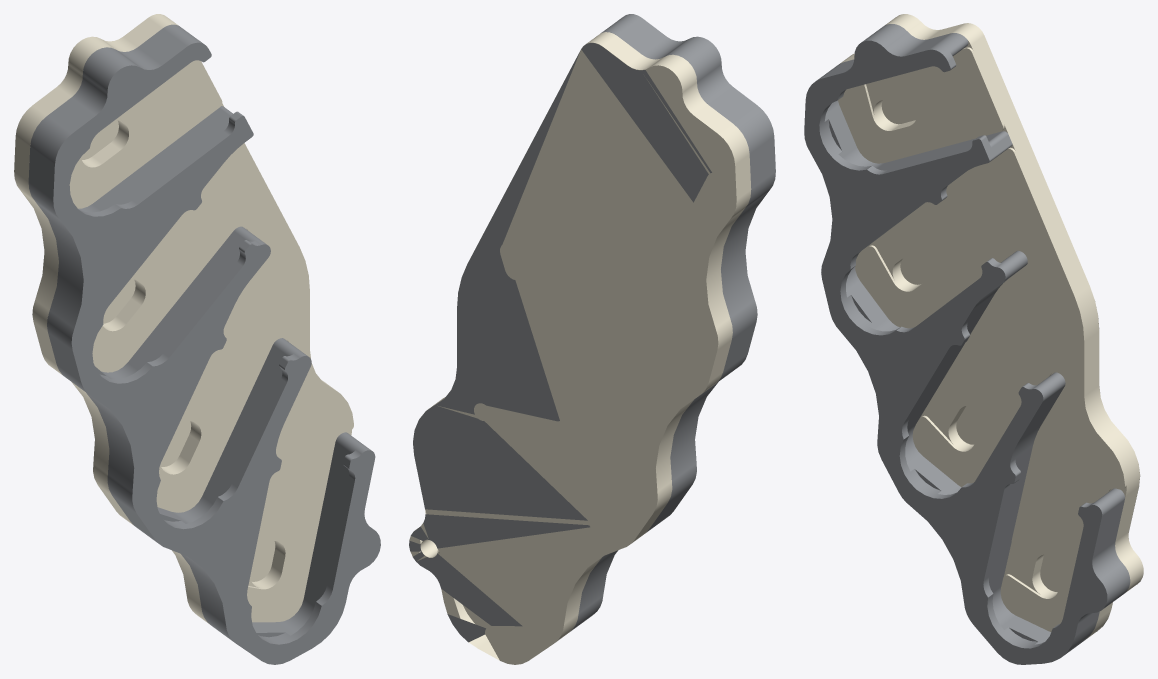
The model's file is formulatrix_mantis_left_chip_rack.glb.
The picture shows the model from 3 angles, left to right: view 1: azimuth 30°, elevation 25°; view 2: azimuth 150°, elevation 25°; view 3: azimuth 330°, elevation 25°; orthographic projection. The views are drawn at different scales.
Size of the model in its own units: 65.06 by 122 by 13.53.
